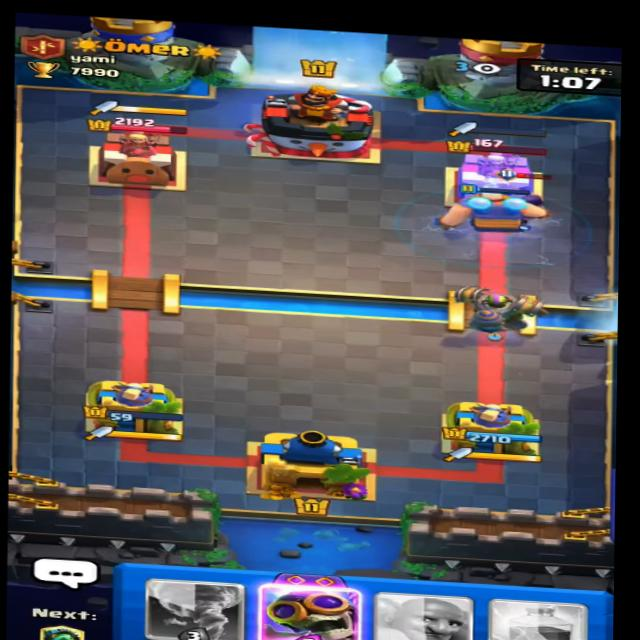evo-wizard: (505, 168, 572, 223)
